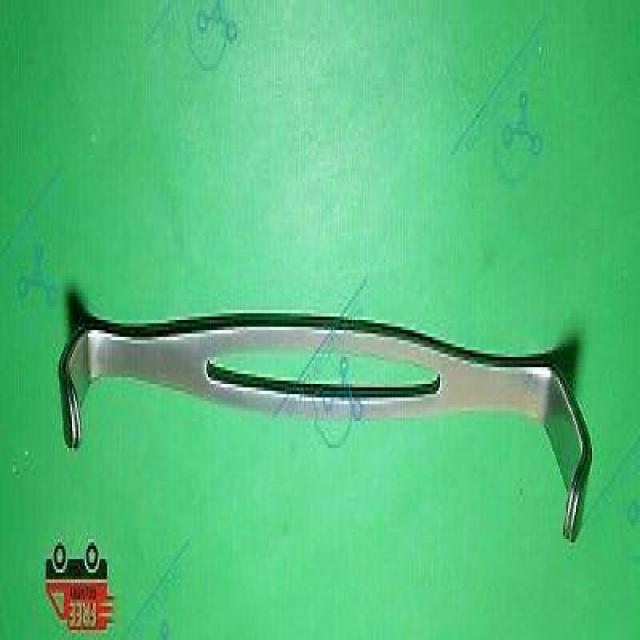Army_navy: (56, 293, 594, 556)
